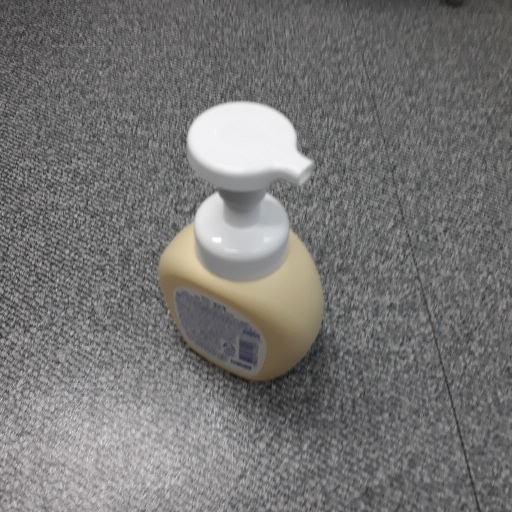Plastic_3: (142, 99, 329, 383)
